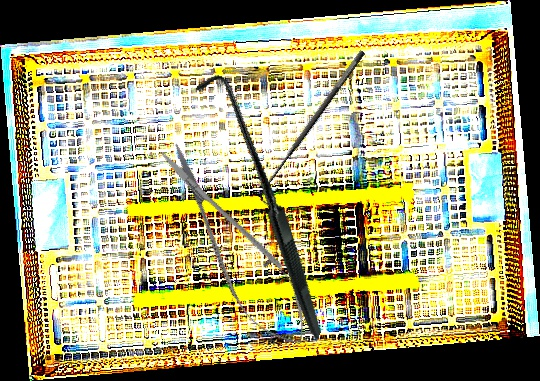Hook Surgical: (129, 69, 392, 341), (251, 48, 377, 209)
Micro Scissor: (143, 131, 326, 361)
